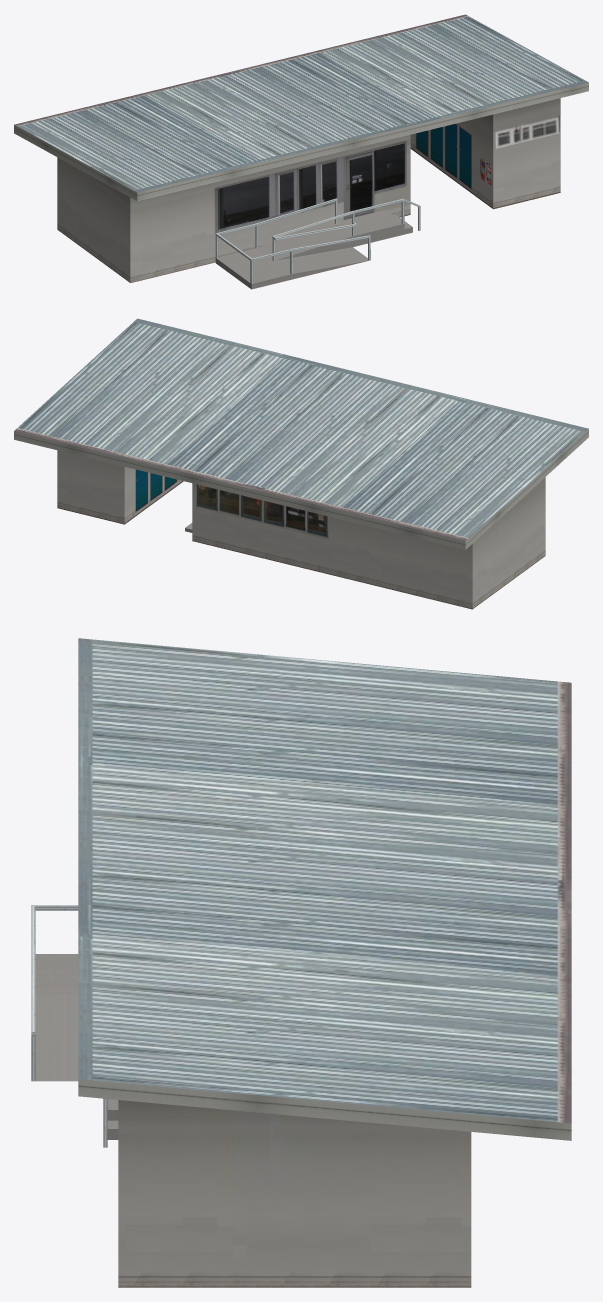
Rendered from terminal-small-01-17x7-cbj_LOD00.gltf.
3 renders of one model, top to bottom at view 1: azimuth 30°, elevation 25°; view 2: azimuth 150°, elevation 25°; view 3: azimuth 270°, elevation 25°, orthographic. The views are drawn at different scales.
Visible parts, largest first — view 1: roof, building, ramp, railing; view 2: roof, building; view 3: roof, building, ramp, railing.
Boxes of the visible parts, left/top/right/bottom form: roof: left=14, top=14, right=588, bottom=192; building: left=14, top=82, right=588, bottom=282; ramp: left=215, top=210, right=412, bottom=289; railing: left=215, top=198, right=420, bottom=283; roof: left=14, top=318, right=588, bottom=540; building: left=14, top=429, right=588, bottom=609; roof: left=78, top=638, right=571, bottom=1123; building: left=78, top=1079, right=571, bottom=1287; ramp: left=35, top=954, right=118, bottom=1139; railing: left=31, top=905, right=107, bottom=1147.
Size of the model in its own units: 17.4 by 4.17 by 9.01.
